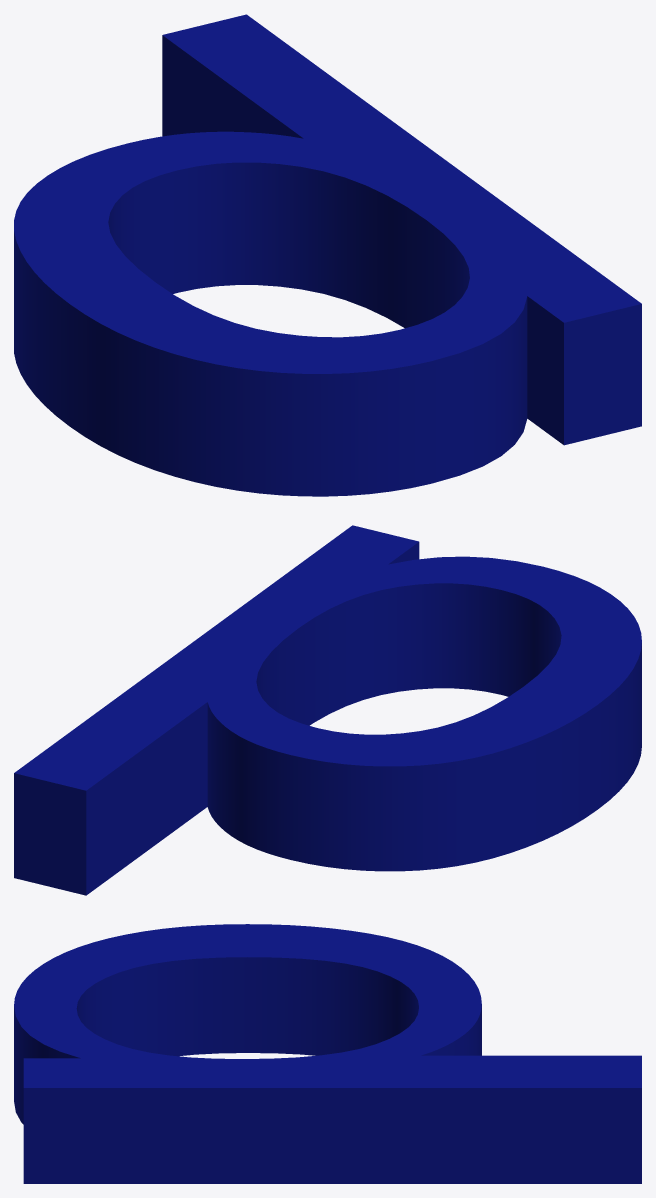
3 renders of one model, top to bottom at view 1: azimuth 30°, elevation 25°; view 2: azimuth 150°, elevation 25°; view 3: azimuth 270°, elevation 25°, orthographic. The views are drawn at different scales.
Visible parts, largest first — view 1: TextPlus030; view 2: TextPlus030; view 3: TextPlus030.
Boxes of the visible parts, <box> form: TextPlus030: <box>14,14,641,496</box>; TextPlus030: <box>14,525,641,895</box>; TextPlus030: <box>14,924,641,1183</box>.
Size of the model in its own units: 16.08 by 4.38 by 26.04.
